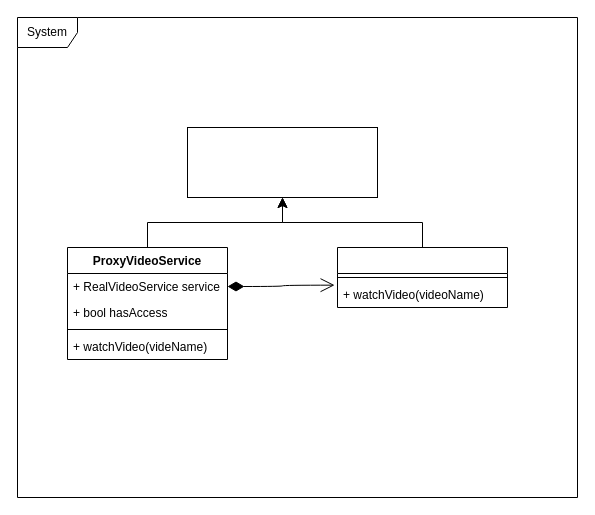
Some shapes in this 595 by 515 pixel diagram are drawn without their labels. Each missing label, with the box of its shape:
<<Interface>> VideoService + watchVideo(videoName): (186, 126, 378, 198)
VideoService: (336, 246, 508, 308)
